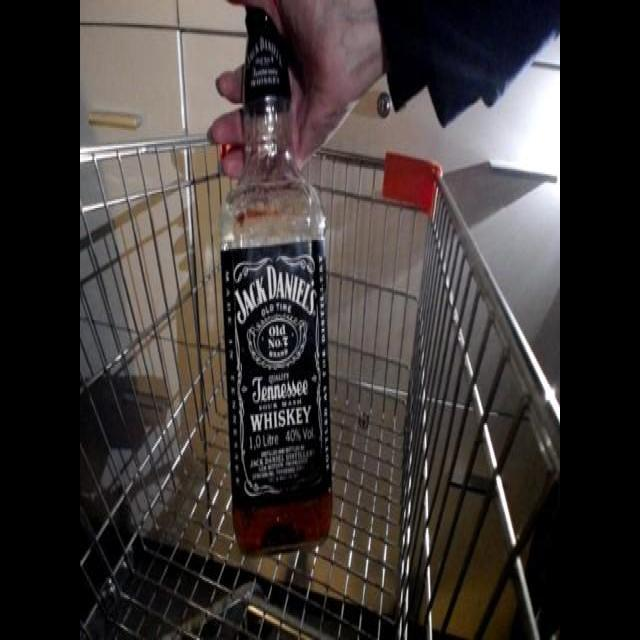Jack Daniels: (212, 0, 341, 562)
